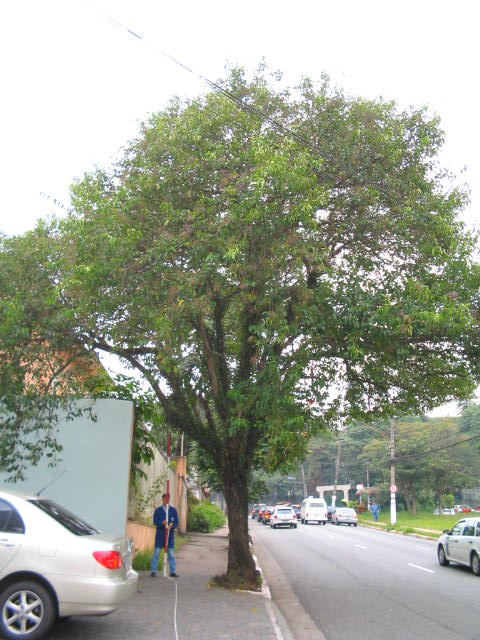crown: (3, 64, 476, 468)
stem: (209, 468, 268, 590)
stick: (159, 433, 176, 579)
tree: (1, 62, 478, 591)
